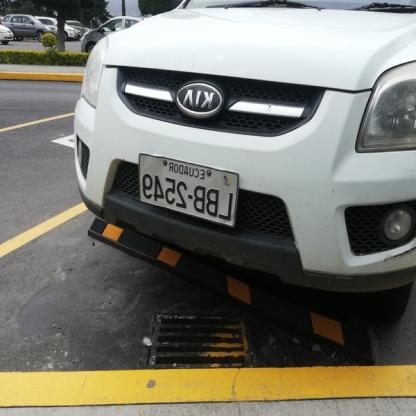Placa: (138, 149, 244, 231)
